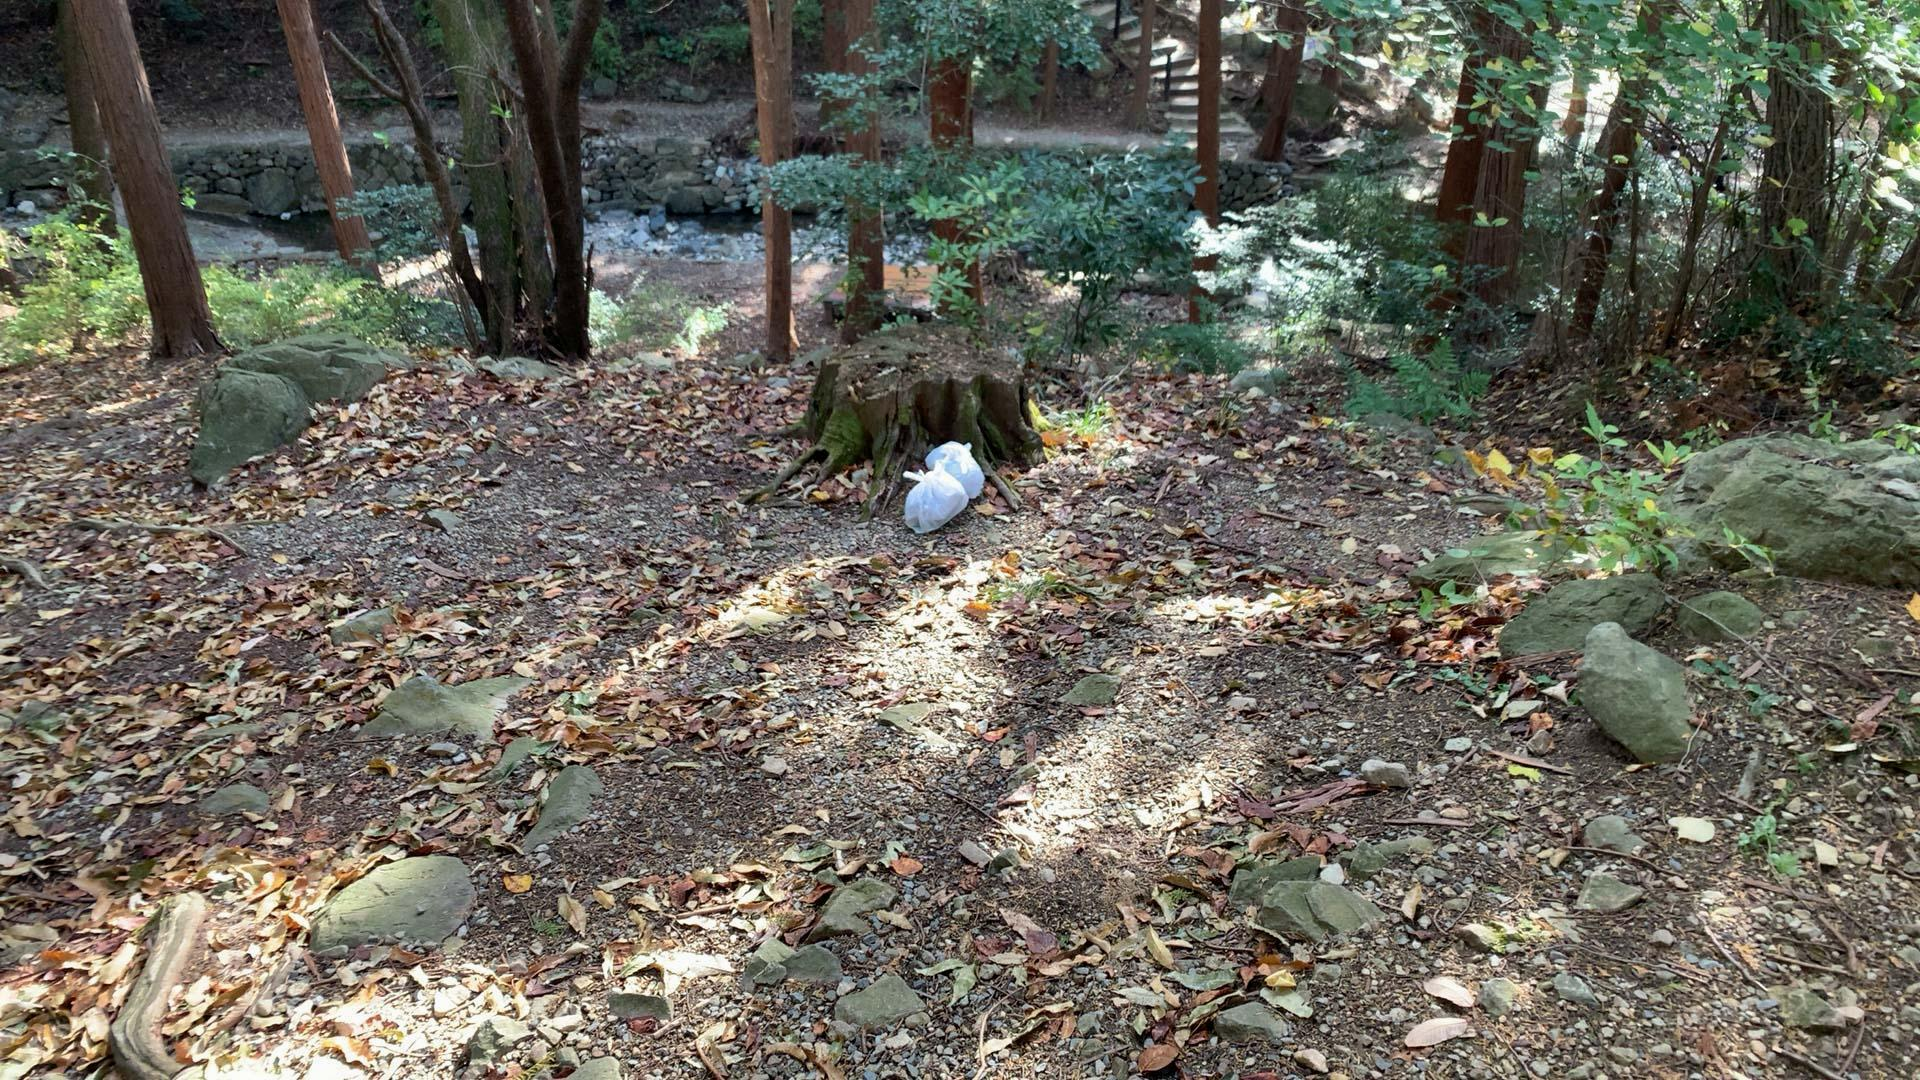white_bag: (895, 459, 971, 534), (920, 436, 986, 498)
